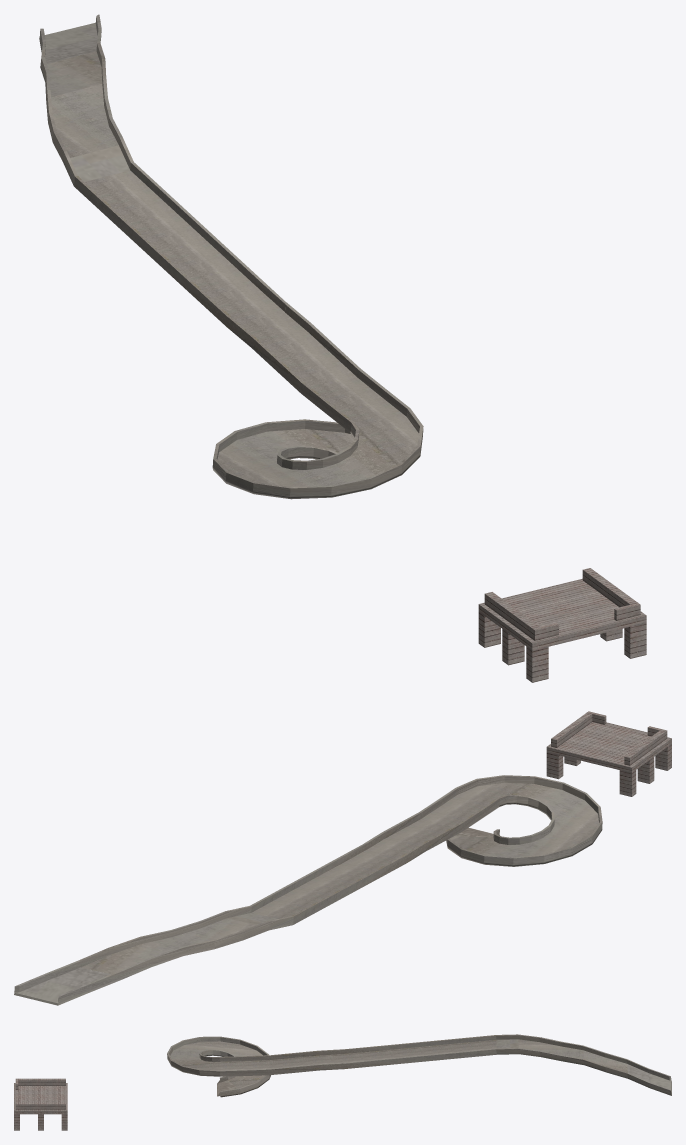
File: highway_dock.FBX
3 renders of one model, top to bottom at view 1: azimuth 30°, elevation 25°; view 2: azimuth 150°, elevation 25°; view 3: azimuth 270°, elevation 25°, orthographic. The views are drawn at different scales.
Visible parts, largest first — view 1: Spring001, Box001; view 2: Spring001, Box001; view 3: Spring001, Box001.
Part boxes in pixels (<box>): Spring001: <box>39,14,423,499</box>; Box001: <box>478,568,646,682</box>; Spring001: <box>14,775,602,1005</box>; Box001: <box>546,711,671,796</box>; Spring001: <box>167,1034,671,1097</box>; Box001: <box>14,1078,67,1130</box>.
Bounding box in the file's own units: 204 × 93.75 × 720.
Materials: 2 (2 with a texture image).
